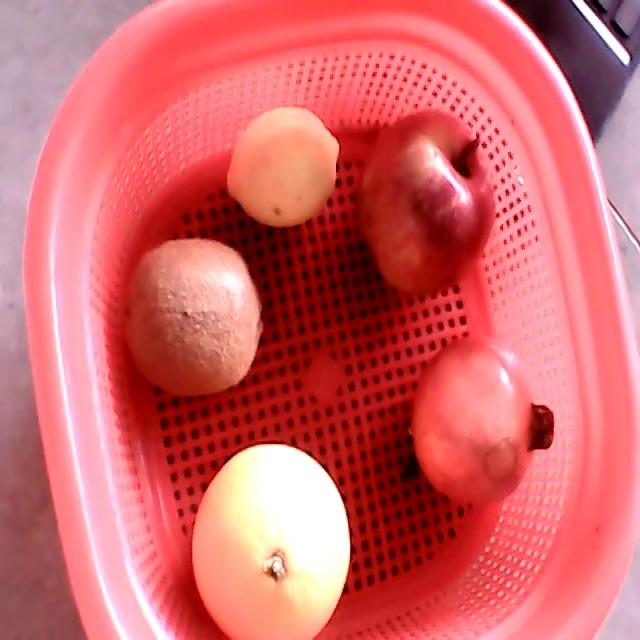apple: (358, 109, 498, 296)
kiwi: (122, 239, 261, 398)
lemon: (226, 105, 340, 227)
orange: (191, 443, 351, 639)
pomegranate: (410, 336, 555, 505)
